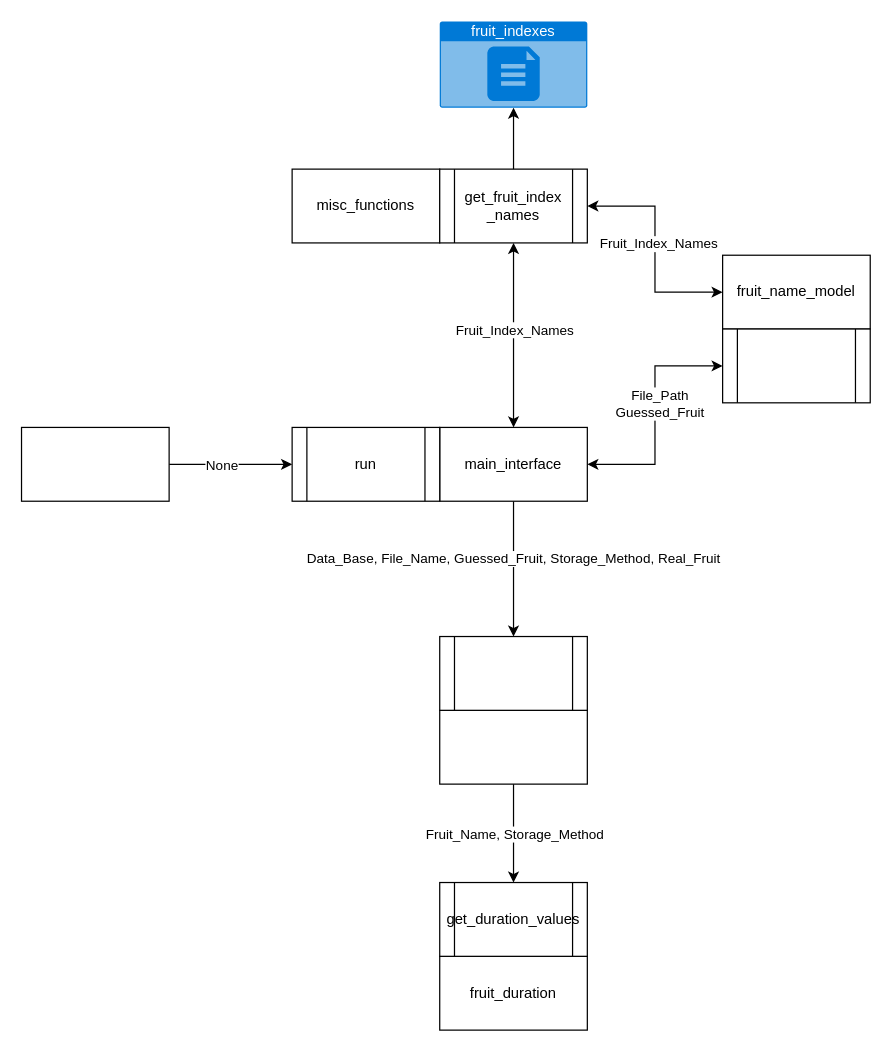
The diagram is 892 pixels wide and 1052 high, and some of its shapes have lost their labels. The shapes that lost their labels are listed below. From the top down, each one's centre as x and y in pixels, then its label:
At (x=795, y=365): "run_model".
At (x=94, y=463): "main".
At (x=512, y=672): "add_fruit".
At (x=512, y=746): "fruit_inventory".
